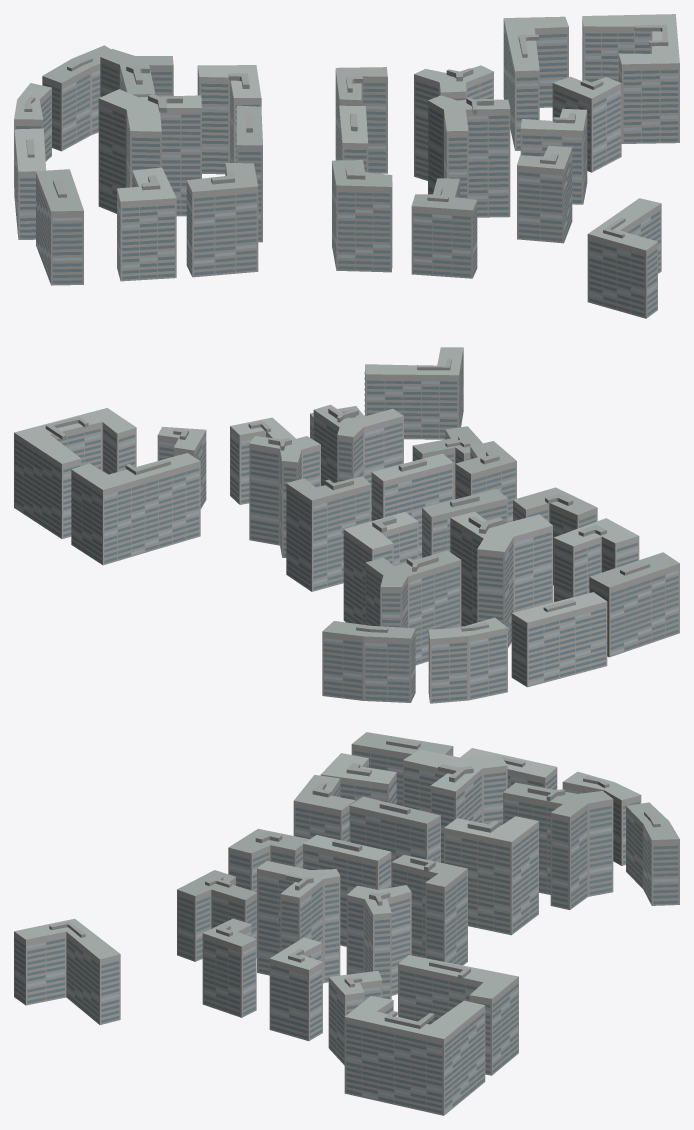
The model's file is apt-a10023076.glb.
The picture shows the model from 3 angles, top to bottom: view 1: azimuth 30°, elevation 25°; view 2: azimuth 150°, elevation 25°; view 3: azimuth 270°, elevation 25°; orthographic projection. The views are drawn at different scales.
Parts seen in each view (by area): view 1: apt-a10023076; view 2: apt-a10023076; view 3: apt-a10023076.
Part boxes in pixels (x1=…): apt-a10023076: x1=14, y1=14, x2=679, y2=318; apt-a10023076: x1=14, y1=347, x2=679, y2=703; apt-a10023076: x1=14, y1=732, x2=679, y2=1115.
Bounding box in the file's own units: 373 × 60.35 × 335.
